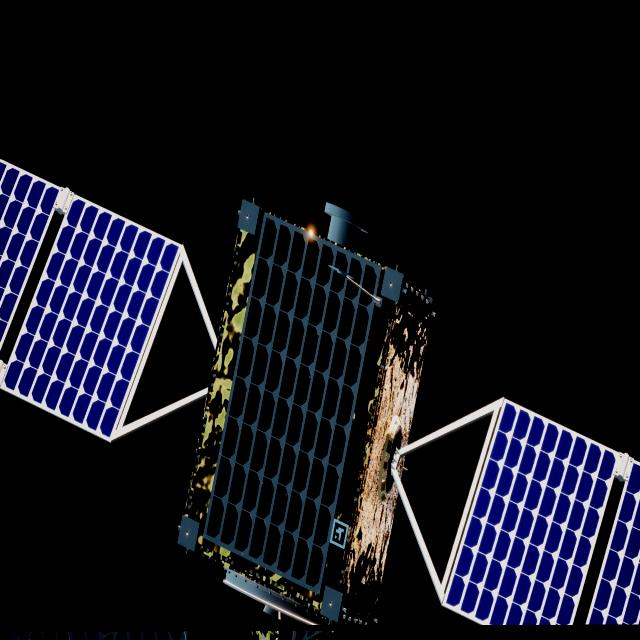medium_debris: (0, 159, 640, 629)
